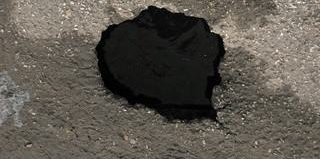Spalling: (94, 5, 227, 123)
